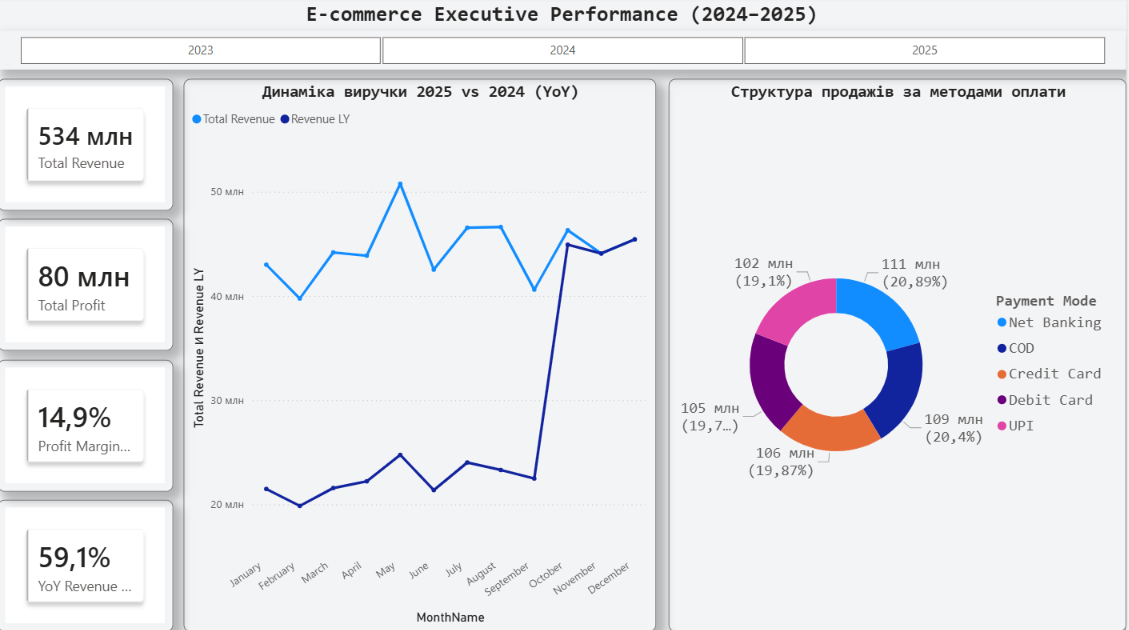

This screenshot's page, from the dashboard's own definition file:
{"tool":"powerbi","page":{"name":"Executive Overview","canvas":[1280,720],"ordinal":0},"visuals":[{"type":"textbox","box":[0,0,1280,38.8],"z":0},{"type":"slicer","fields":{"Values":["Dim_Date.Year"]},"box":[0,38.8,1280,44.3],"z":1000},{"type":"cardVisual","fields":{"Data":["_Measures.Total Revenue"]},"box":[0,92.8,199.5,149.6],"z":2000},{"type":"cardVisual","fields":{"Data":["_Measures.Total Profit"]},"box":[0,252.1,199.5,149.6],"z":3000},{"type":"cardVisual","fields":{"Data":["_Measures.Profit Margin %"]},"box":[0,411.4,199.5,149.6],"z":4000},{"type":"cardVisual","fields":{"Data":["_Measures.YoY Revenue Growth %"]},"box":[0,570.7,199.5,149.6],"z":5000},{"type":"lineChart","title":"Динаміка виручки 2025 vs 2024 (YoY)","fields":{"Category":["Dim_Date.MonthName"],"Y":["_Measures.Total Revenue","_Measures.Revenue LY"]},"box":[210.6,92.8,536.1,627.5],"z":6000},{"type":"donutChart","title":"Структура продажів за методами оплати","fields":{"Category":["Fact_Sales.Payment Mode"],"Y":["_Measures.Total Revenue"]},"box":[760.5,92.8,519.5,627.5],"z":7000}]}

Visuals, with their boxes in screenshot pixels (x1, y1, x2, y2), scaled from the page's 1280x720 canvas onto the 1129x630 screenshot:
textbox: bbox(0, 0, 1128, 34)
slicer - Dim_Date.Year: bbox(0, 34, 1128, 73)
cardVisual - _Measures.Total Revenue: bbox(0, 81, 176, 212)
cardVisual - _Measures.Total Profit: bbox(0, 221, 176, 351)
cardVisual - _Measures.Profit Margin %: bbox(0, 360, 176, 491)
cardVisual - _Measures.YoY Revenue Growth %: bbox(0, 499, 176, 629)
"Динаміка виручки 2025 vs 2024 (YoY)" lineChart: bbox(186, 81, 659, 629)
"Структура продажів за методами оплати" donutChart: bbox(671, 81, 1128, 629)
